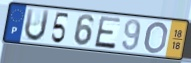5: (50, 11, 70, 44)
6: (73, 13, 96, 47)
9: (121, 18, 142, 52)
E: (93, 15, 123, 51)
O: (142, 20, 169, 55)
U: (23, 7, 51, 43)
